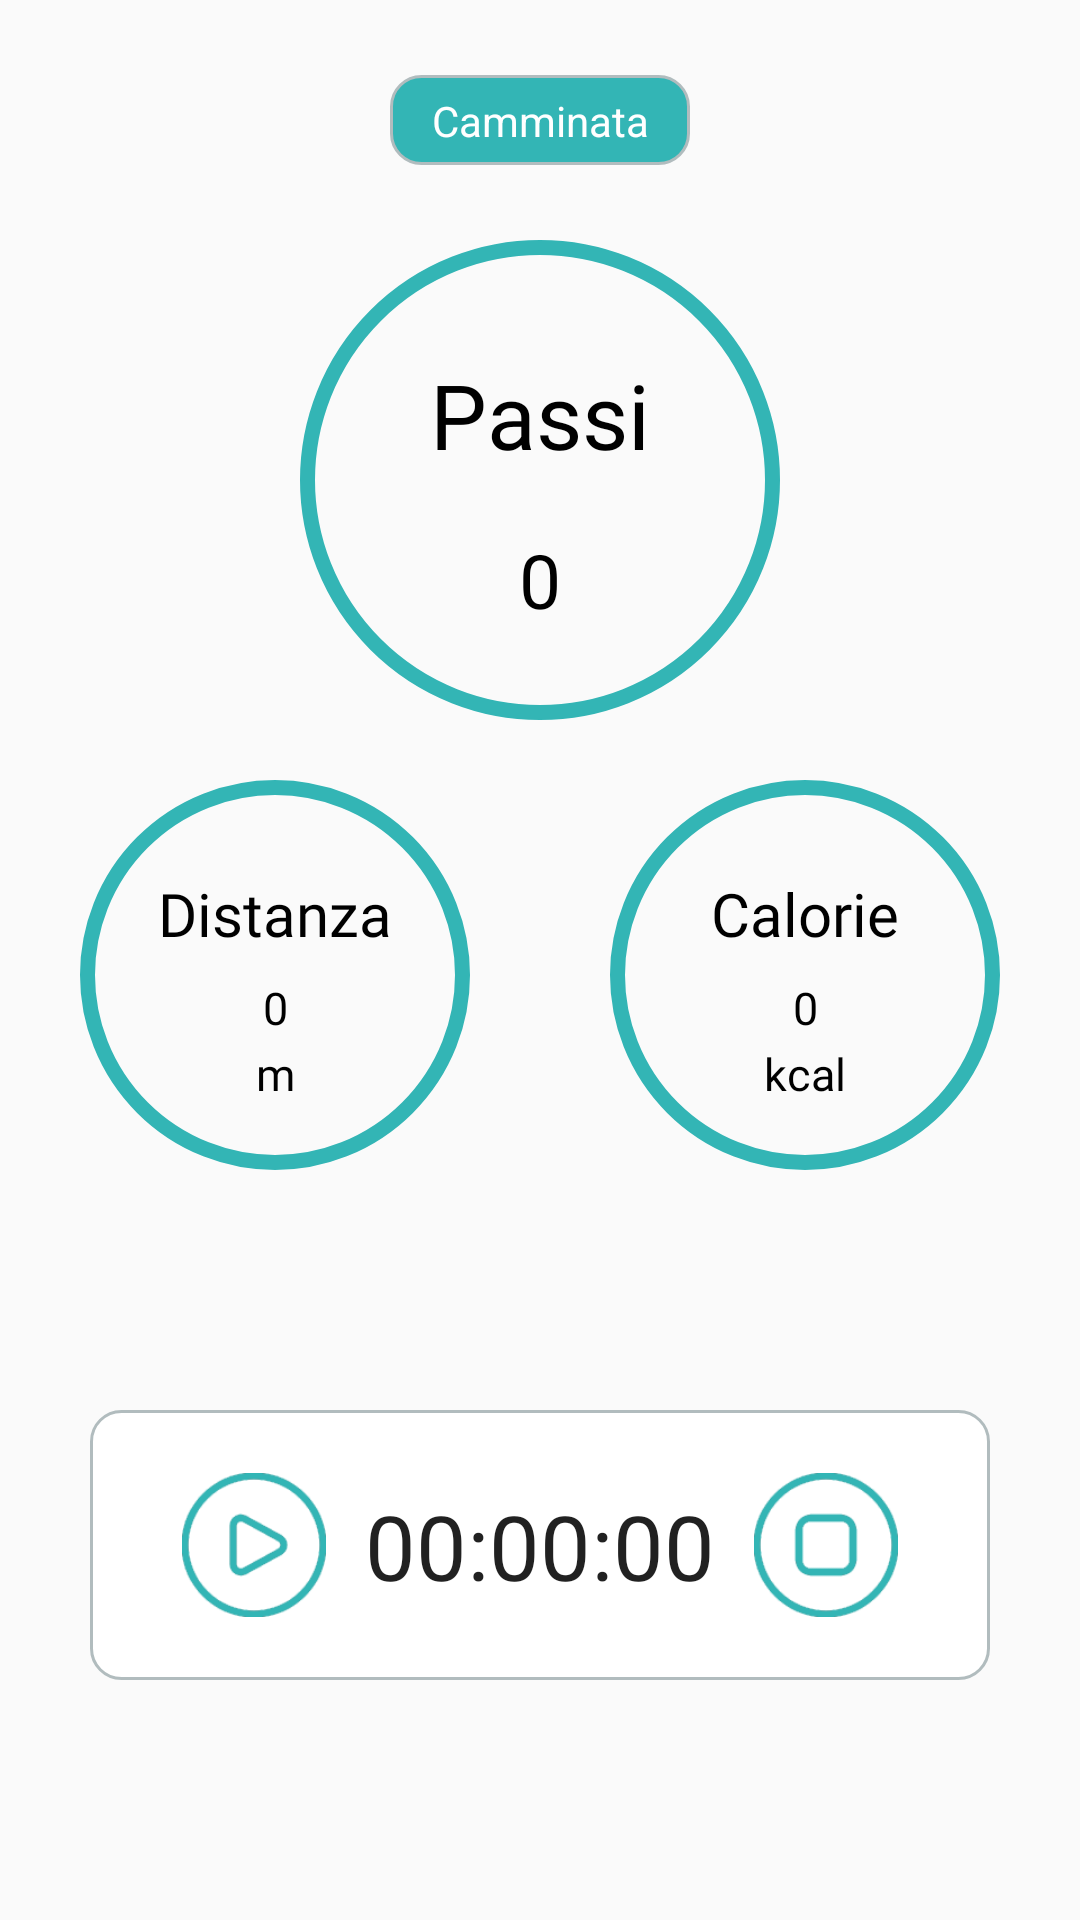

Icon bounding boxes for this 1080w x 1920h phone screenshot, format (x1=x1, y1=y1, x2=x2, y2=y2):
play circle: (x1=182, y1=1473, x2=326, y2=1617)
stop circle: (x1=754, y1=1473, x2=898, y2=1617)
